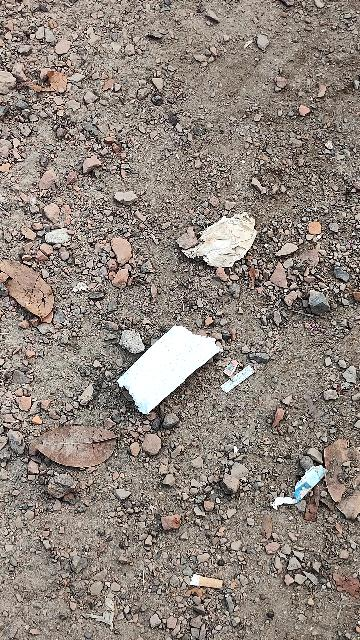cocksheet: (117, 310, 226, 425)
